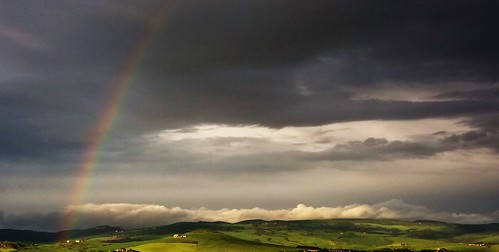rainbow: (57, 41, 158, 244)
sky: (5, 1, 489, 199)
